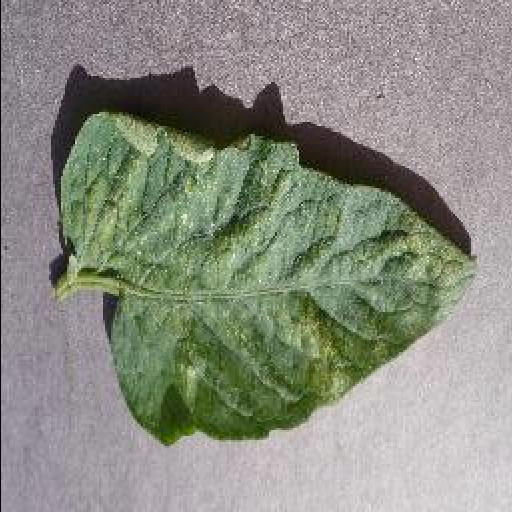disease_tomato: (60, 108, 478, 444)
